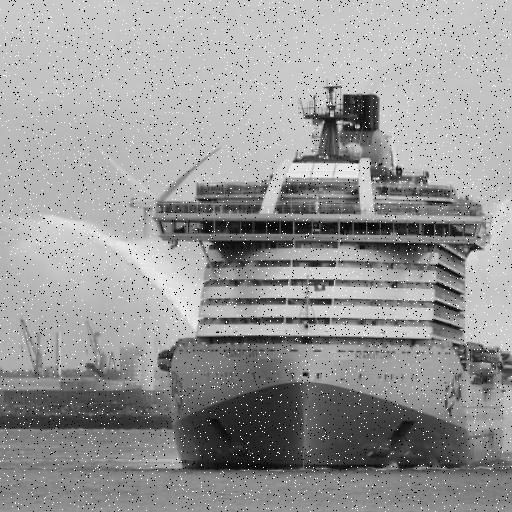cruises: (143, 82, 512, 478)
